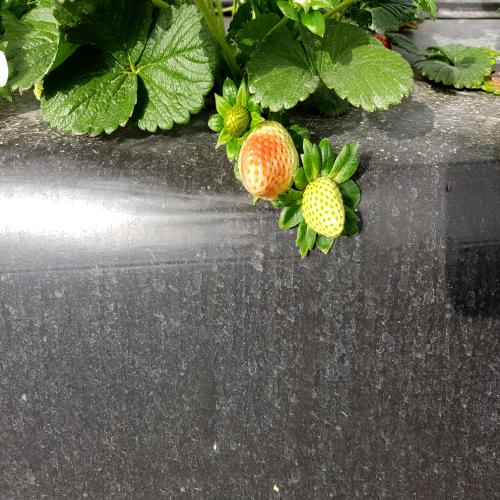partially-ripe: (238, 105, 302, 213)
